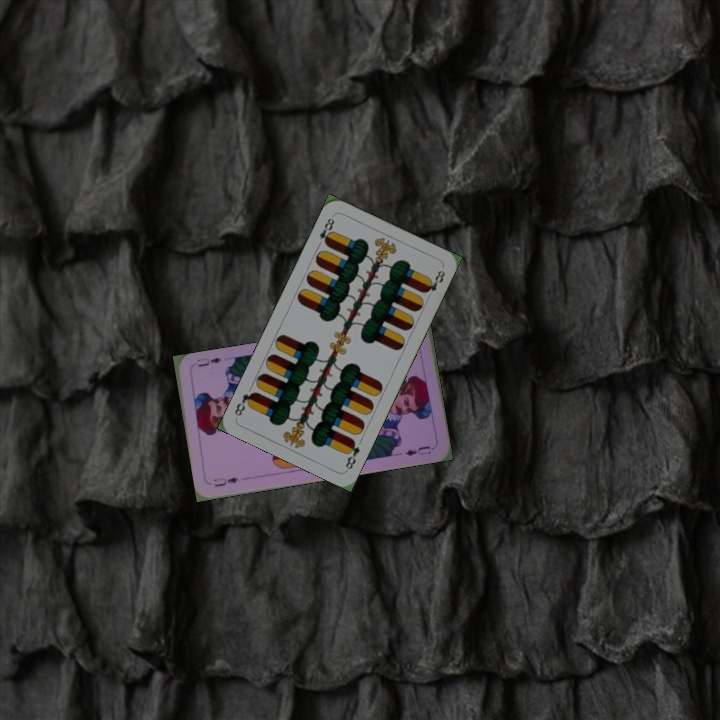E8: (313, 214, 337, 250), (341, 436, 363, 472)
EU: (210, 473, 241, 490)
